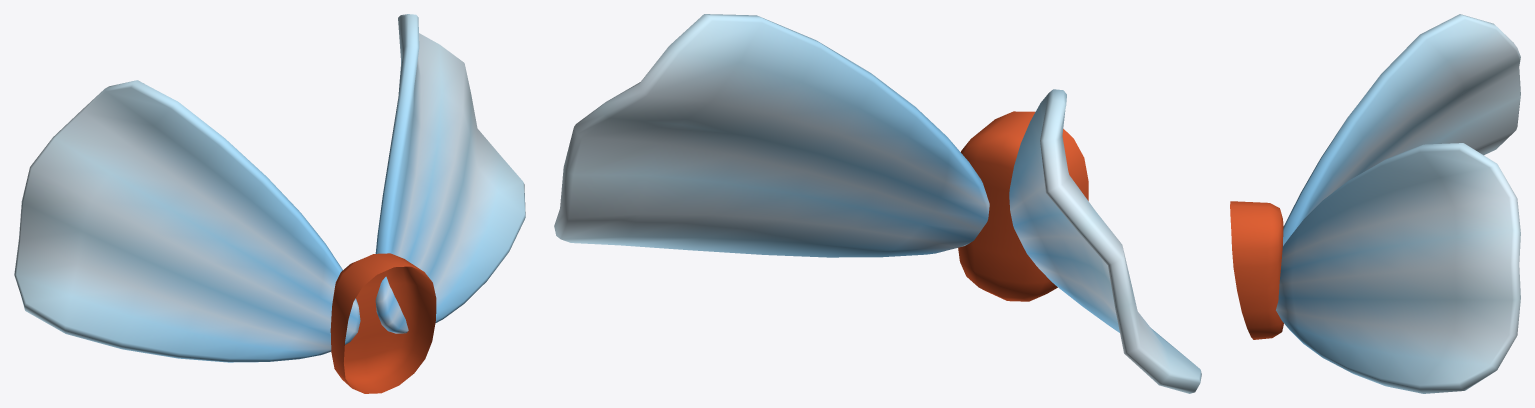
The model's file is Costume_2_04.glb.
3 renders of one model, left to right at view 1: azimuth 30°, elevation 25°; view 2: azimuth 150°, elevation 25°; view 3: azimuth 270°, elevation 25°, orthographic. The views are drawn at different scales.
Visible parts, largest first — view 1: Costume_2_04; view 2: Costume_2_04; view 3: Costume_2_04.
Part boxes in pixels (x1,y1,x2,y2): Costume_2_04: (14,14,525,393); Costume_2_04: (554,14,1201,393); Costume_2_04: (1230,14,1520,393).
Bounding box in the file's own units: 0.5557 × 0.2832 × 0.2915.
Materials: 1 (1 with a texture image).
